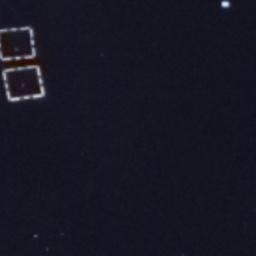square_solid: (1, 63, 48, 105), (1, 23, 40, 62)
